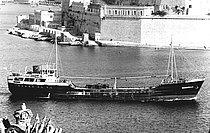Ship: (7, 61, 207, 104)
